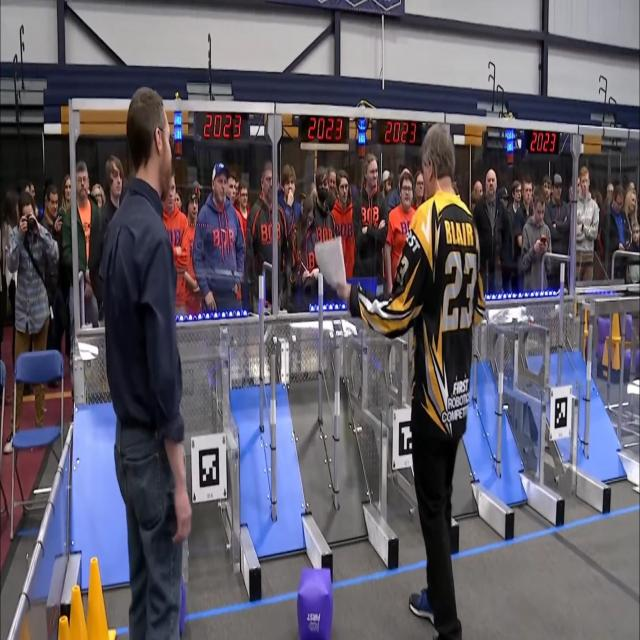frc_cone: (83, 547, 118, 640), (66, 584, 88, 640), (54, 610, 78, 640), (611, 346, 623, 391), (602, 339, 614, 382), (613, 307, 623, 341)
frc_cube: (296, 568, 332, 640), (620, 349, 634, 372), (631, 346, 640, 373), (600, 317, 613, 334), (628, 316, 638, 336), (597, 337, 606, 355)
